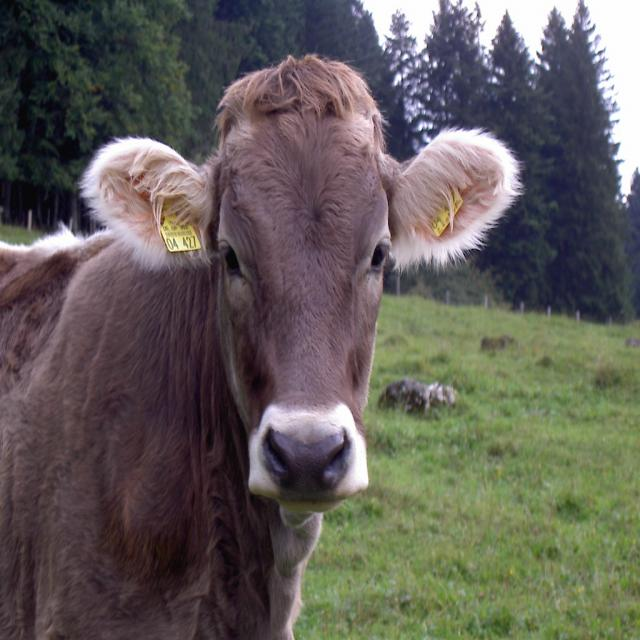Cattle: (0, 44, 527, 640)
